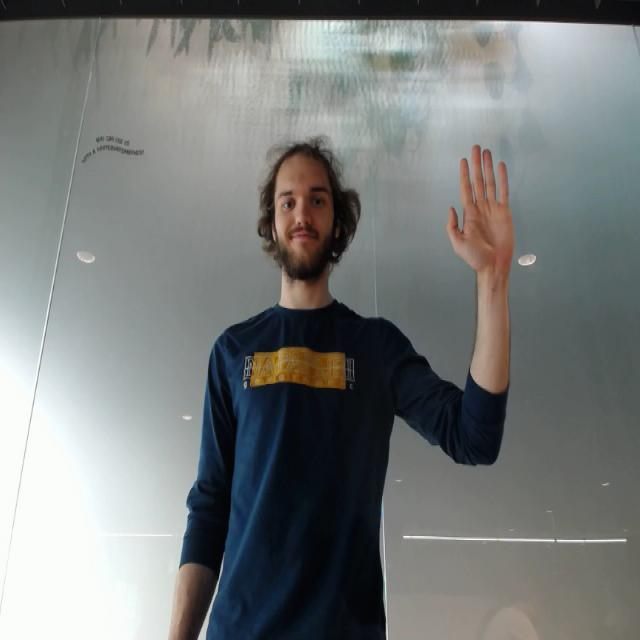backward: (446, 140, 516, 282)
